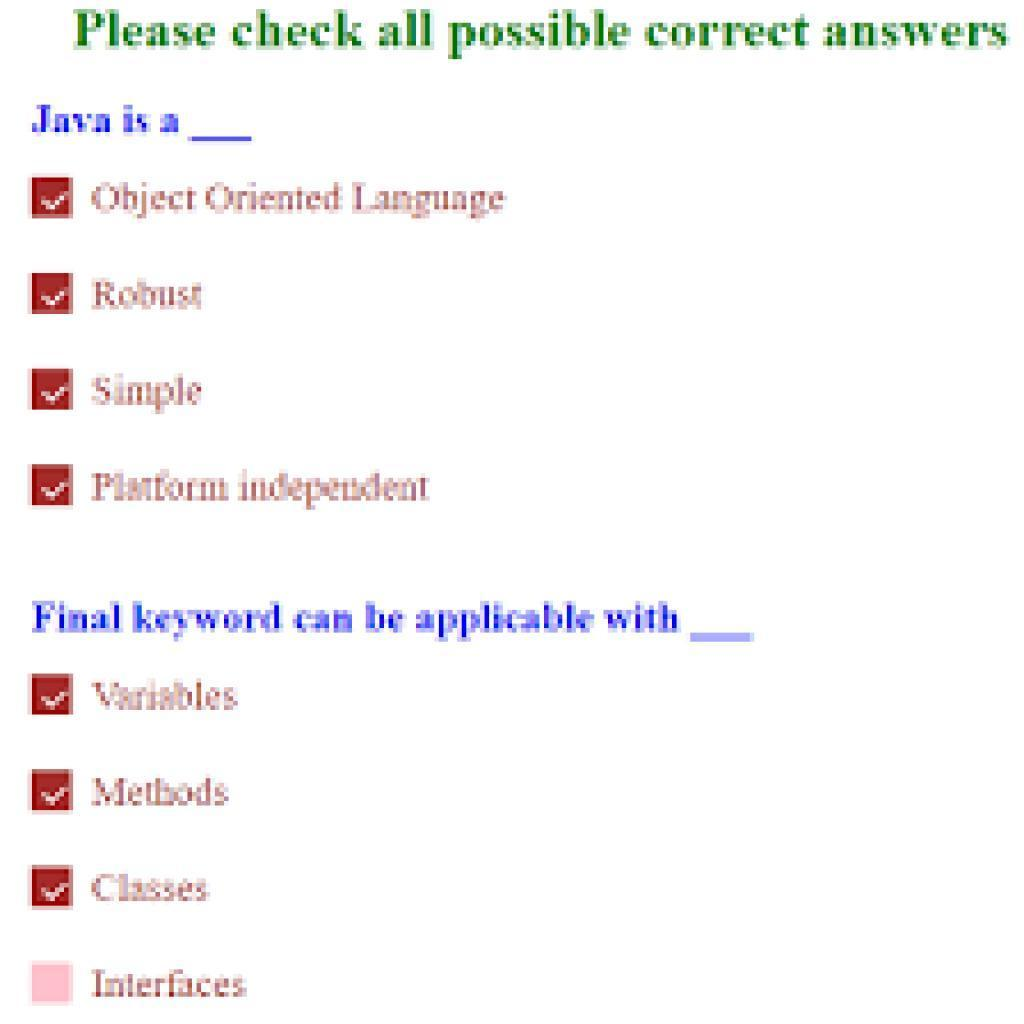checkbox: (27, 269, 79, 323), (25, 959, 79, 1011), (28, 174, 79, 222), (30, 460, 78, 511), (30, 671, 78, 722), (29, 766, 77, 816), (28, 864, 77, 911), (30, 369, 78, 414)
